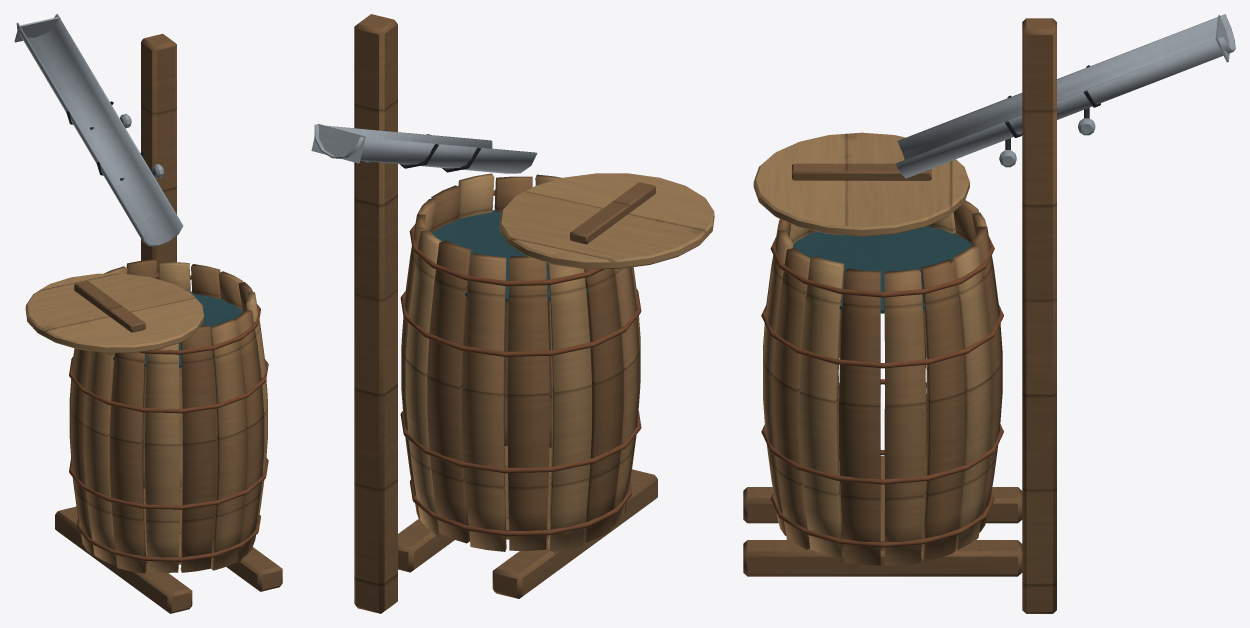
File: rain_barrel.glb
3 renders of one model, left to right at view 1: azimuth 30°, elevation 25°; view 2: azimuth 150°, elevation 25°; view 3: azimuth 270°, elevation 25°, orthographic. The views are drawn at different scales.
Parts seen in each view (by area): view 1: rain_barrel; view 2: rain_barrel; view 3: rain_barrel.
Boxes of the visible parts, <box> form: rain_barrel: <box>14,14,282,613</box>; rain_barrel: <box>311,14,714,613</box>; rain_barrel: <box>743,14,1235,613</box>.
Size of the model in its own units: 0.9085 by 1.85 by 1.41.
Materials: 10 (10 with a texture image).
